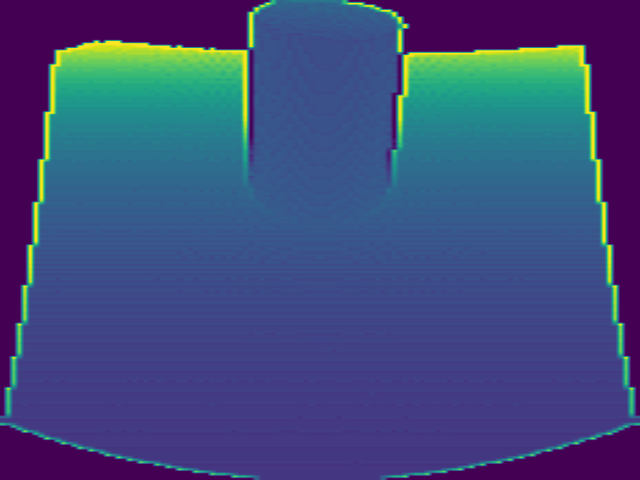cylinder: (243, 1, 405, 215)
